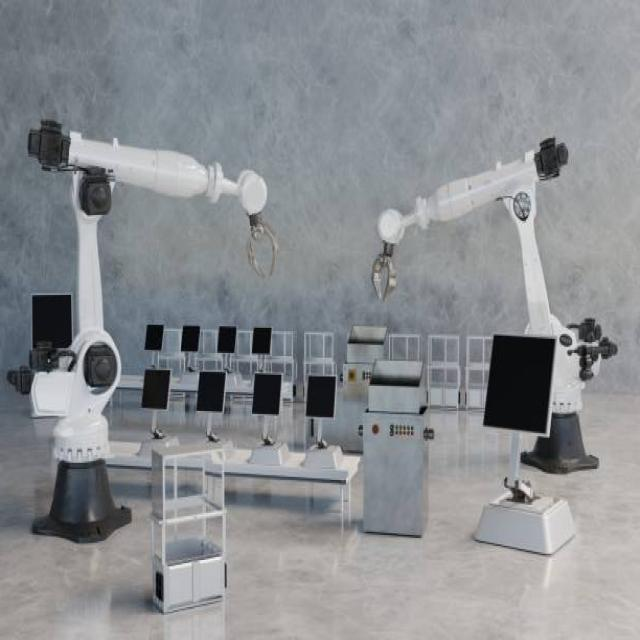Robotic-arm: (18, 114, 286, 550), (367, 130, 615, 473)
